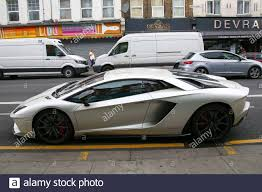Lamborghini: (14, 76, 248, 140)
